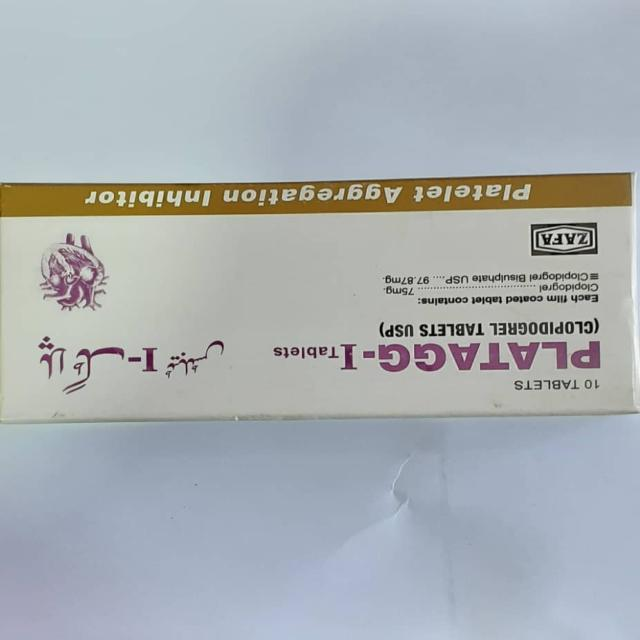drug-name: (339, 342, 603, 372)
